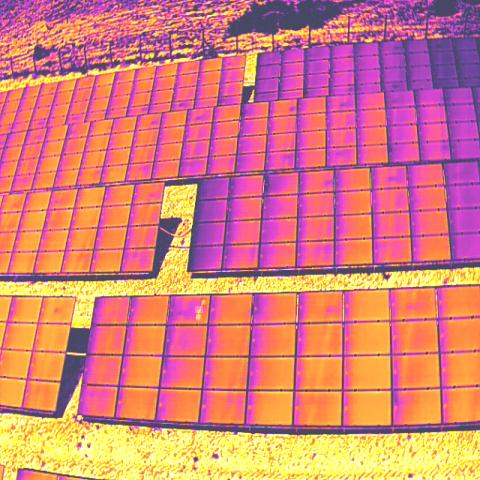fault: (195, 306, 203, 313), (200, 297, 206, 306), (196, 314, 202, 321)
